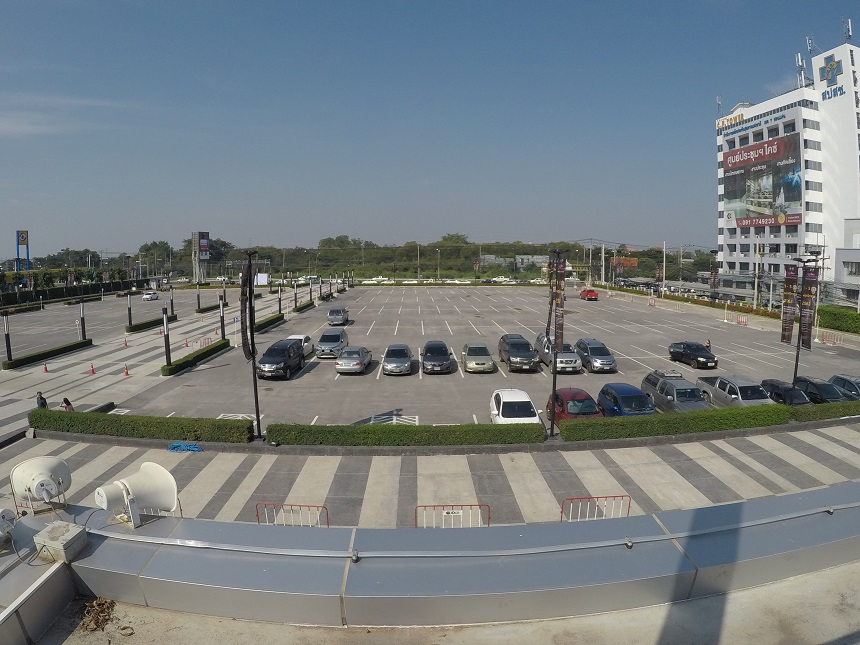busy: (653, 378, 698, 408), (710, 374, 756, 403), (554, 385, 596, 414), (601, 387, 645, 414), (489, 395, 535, 418), (259, 348, 294, 377), (333, 354, 369, 379), (544, 351, 583, 374), (504, 350, 537, 372), (381, 356, 417, 376), (423, 355, 456, 376), (462, 356, 496, 375), (688, 350, 719, 369), (588, 353, 618, 372), (768, 381, 799, 399), (809, 379, 833, 398), (839, 376, 860, 394)
